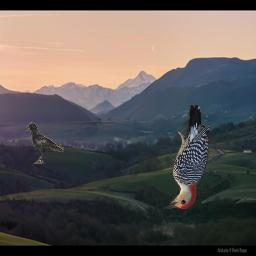Crow: (26, 122, 64, 164)
Woodpecker: (162, 105, 211, 209)
